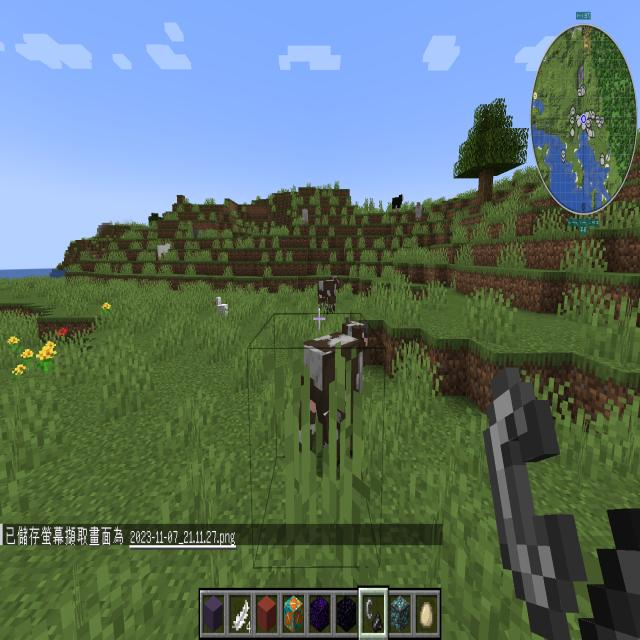chicken: (212, 292, 230, 324)
cow: (294, 306, 373, 478), (310, 269, 343, 318)
